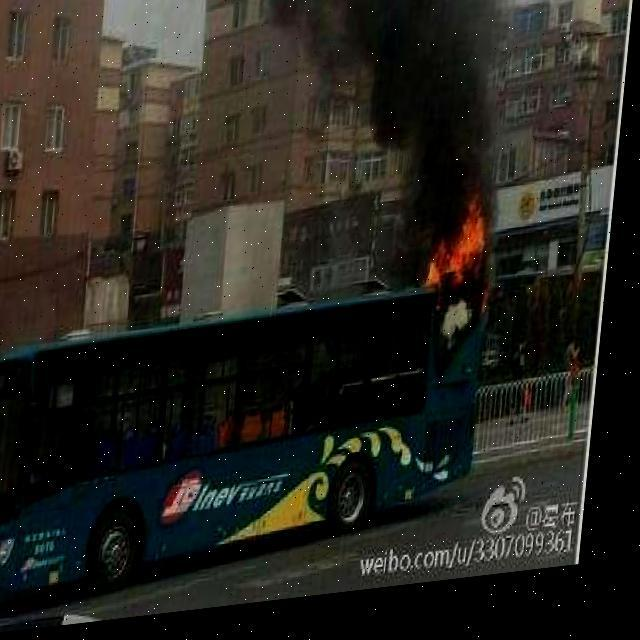Fire: (426, 202, 498, 354)
